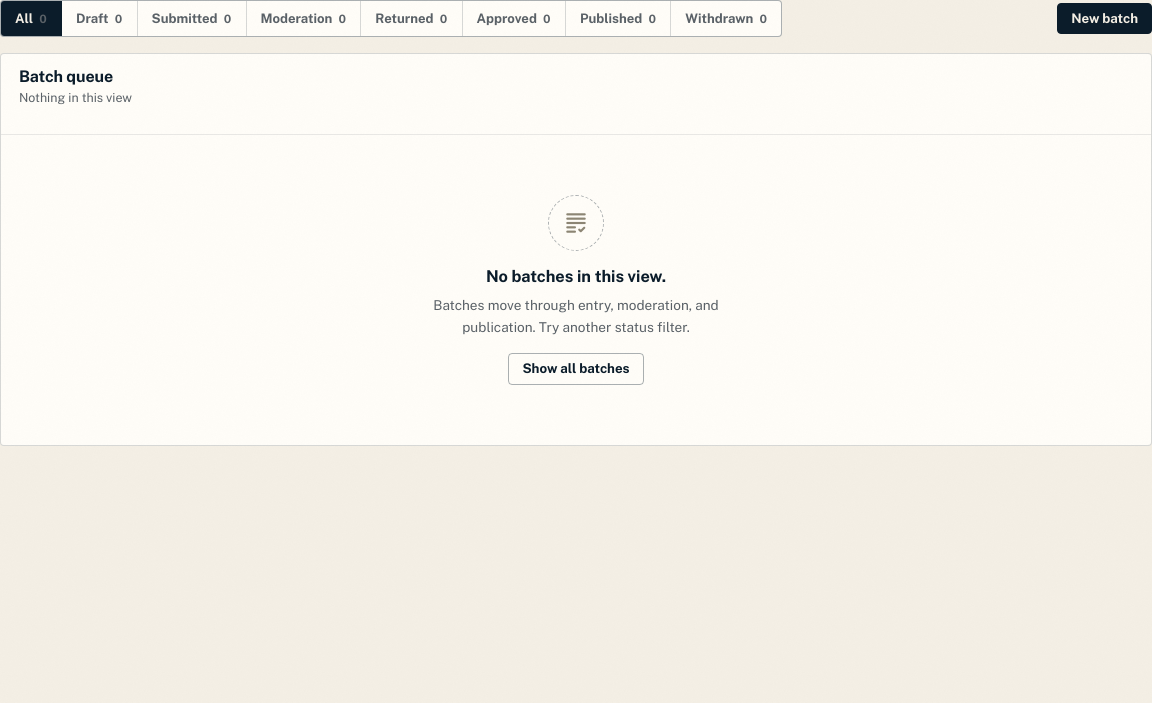
Scenario: new batch creation › surfaces a server failure with a retry that keeps the selection
The width and height of the screenshot is (1152, 703).
Click the button "New batch". click: {"x": 1105, "y": 18}
box: x1=1057 y1=2 x2=1151 y2=34
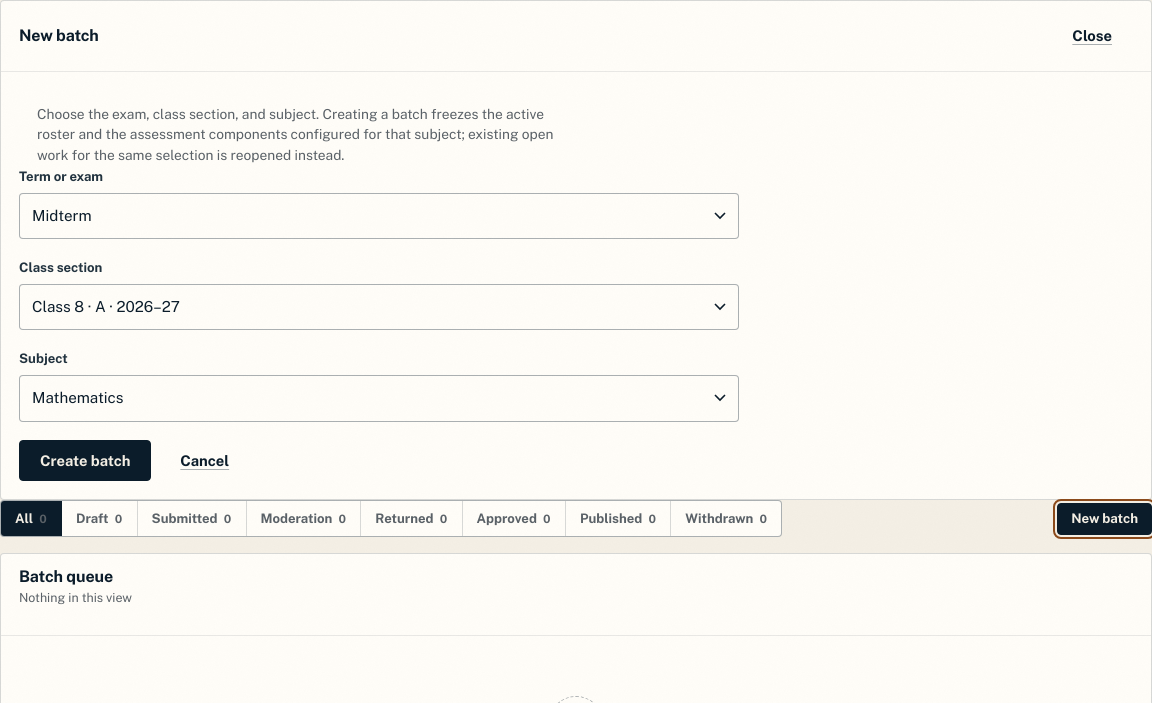
Check: the heading "New batch" is shown, box x1=19 y1=27 x2=99 y2=45
Click the button "Create batch". click: {"x": 85, "y": 460}
box: x1=19 y1=440 x2=151 y2=481
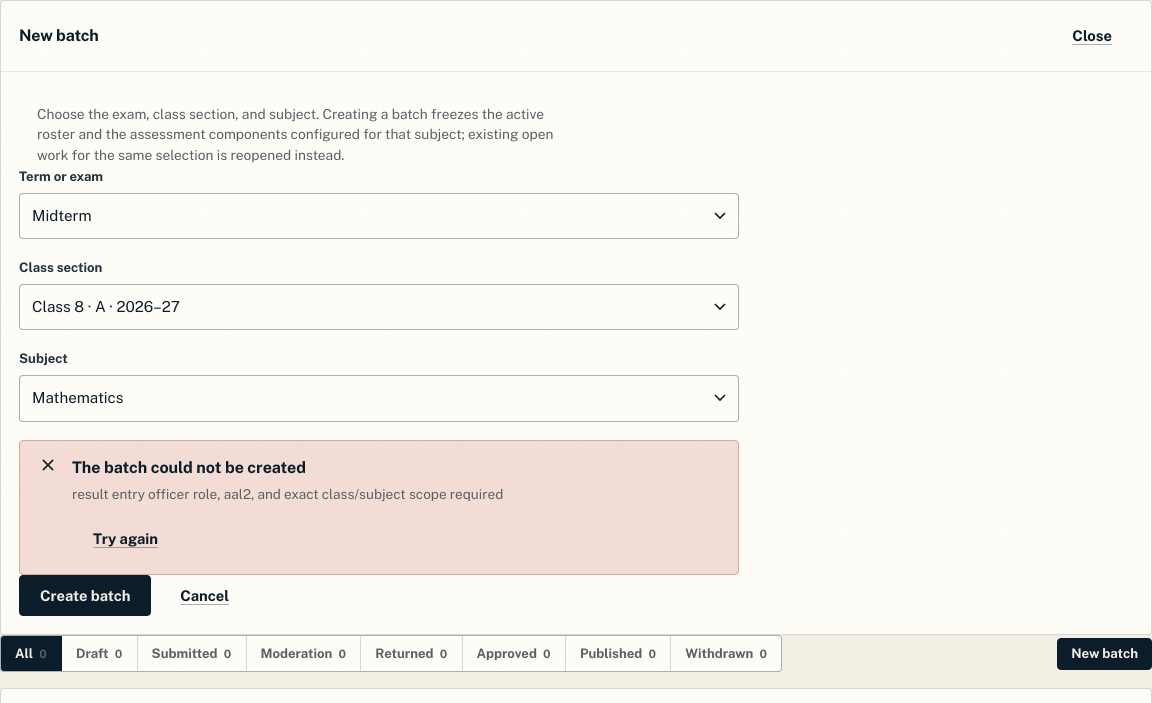
Check: the dropdown labelled "Term or exam" shows "Midterm", box x1=19 y1=193 x2=739 y2=239
Check: the text "The batch could not be created" is shown, box x1=72 y1=458 x2=306 y2=476
Check: the text "result entry officer role, aal2, and exact class/subject scope required" is shown, box x1=72 y1=484 x2=503 y2=506
Click the button "Try again". click: {"x": 126, "y": 539}
box: x1=72 y1=518 x2=179 y2=560
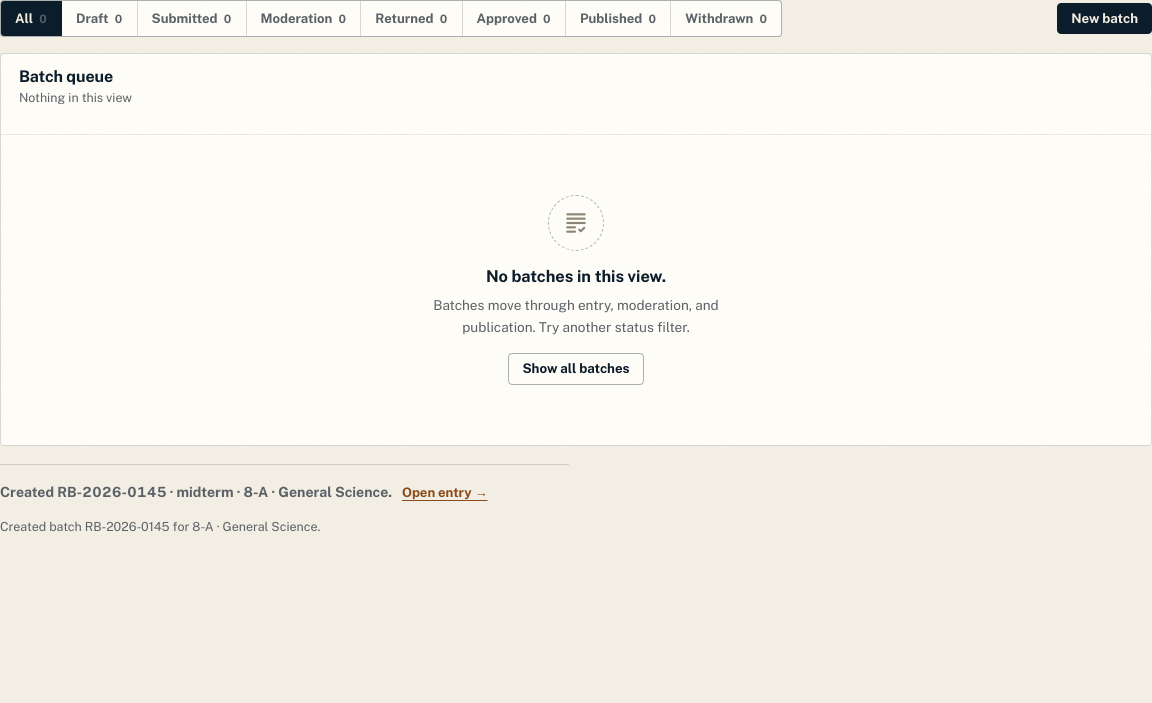
Check: the text "RB-2026-0145" is shown, box x1=57 y1=484 x2=166 y2=500
